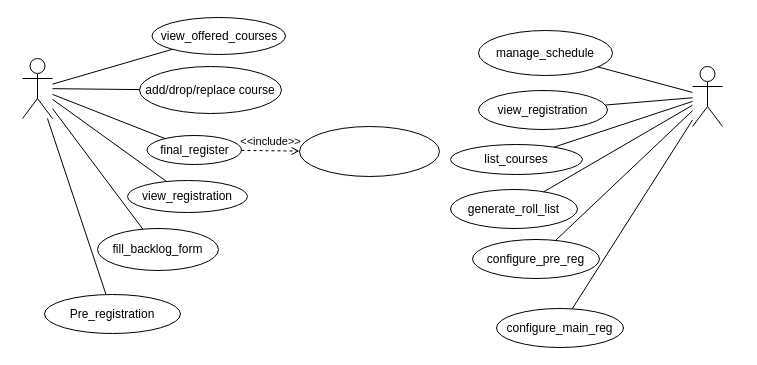
Image size: 757x365. Some labels were removed from this diagram. Here are the shapes that lost their labels. From the top down, the box of each, then its label:
(22, 58, 52, 118): Student
(692, 66, 722, 126): Acad Admin
(298, 126, 440, 176): handle_payment
